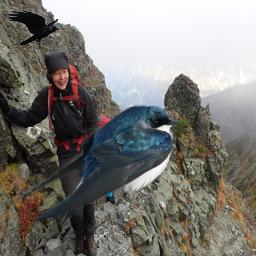Crow: (7, 10, 60, 45)
Swallow: (12, 104, 178, 224)
